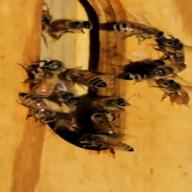Bee: (27, 55, 73, 103), (12, 84, 62, 116), (89, 16, 151, 37), (64, 65, 117, 89)
